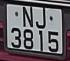1: (36, 30, 46, 53)
3: (10, 26, 23, 51)
5: (46, 29, 61, 55)
8: (23, 28, 36, 51)
J: (33, 7, 50, 29)
N: (21, 5, 35, 30)
